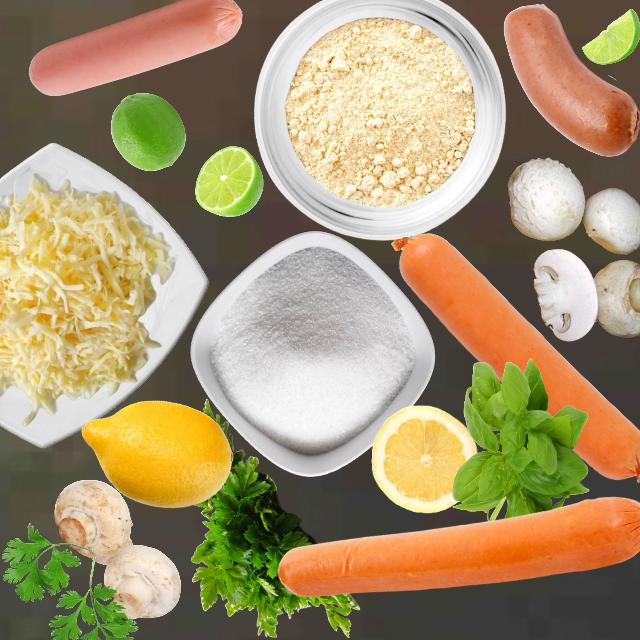Flour: (284, 16, 475, 207)
Sugar: (209, 245, 416, 455)
